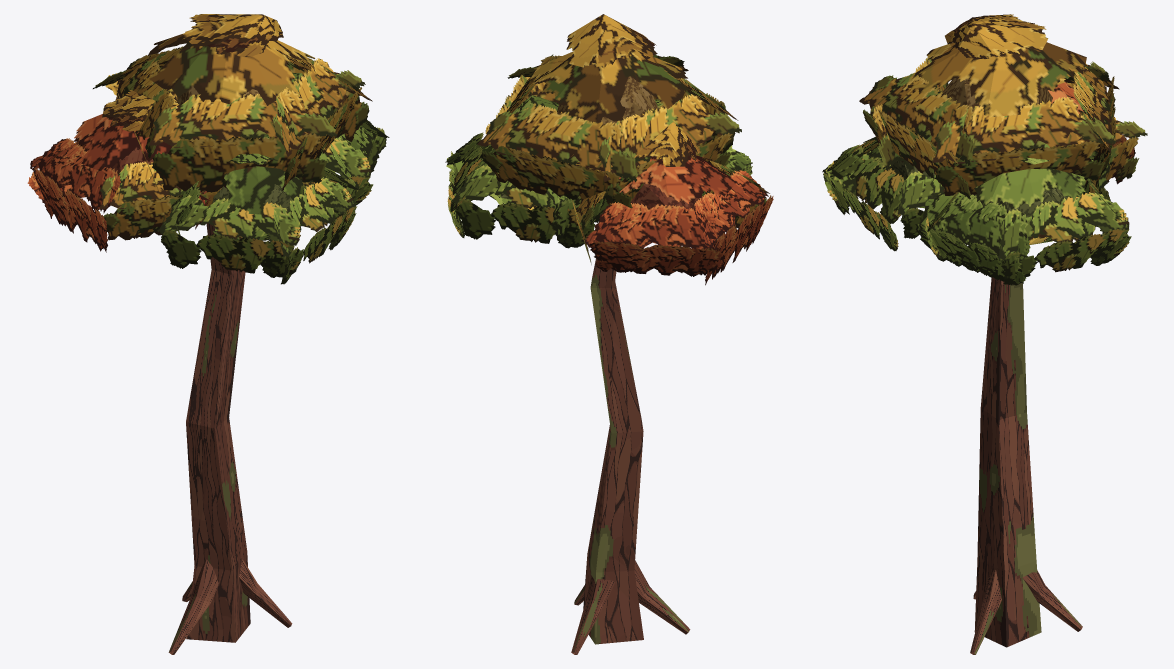
The model's file is SM_TR07_YoungStraight.fbx.
3 views of the same model, side by side, from view 1: azimuth 30°, elevation 25°; view 2: azimuth 150°, elevation 25°; view 3: azimuth 270°, elevation 25° (orthographic). The views are drawn at different scales.
Parts seen in each view (by area): view 1: TR07_Crown, TR07_Bark; view 2: TR07_Crown, TR07_Bark; view 3: TR07_Crown, TR07_Bark.
Part boxes in pixels (bbox=[...]): TR07_Crown: bbox=[27, 14, 389, 284]; TR07_Bark: bbox=[168, 223, 292, 654]; TR07_Crown: bbox=[445, 14, 773, 285]; TR07_Bark: bbox=[571, 258, 690, 654]; TR07_Crown: bbox=[822, 14, 1147, 285]; TR07_Bark: bbox=[970, 277, 1082, 654].
Size of the model in its own units: 2.22 by 3.89 by 1.98.
